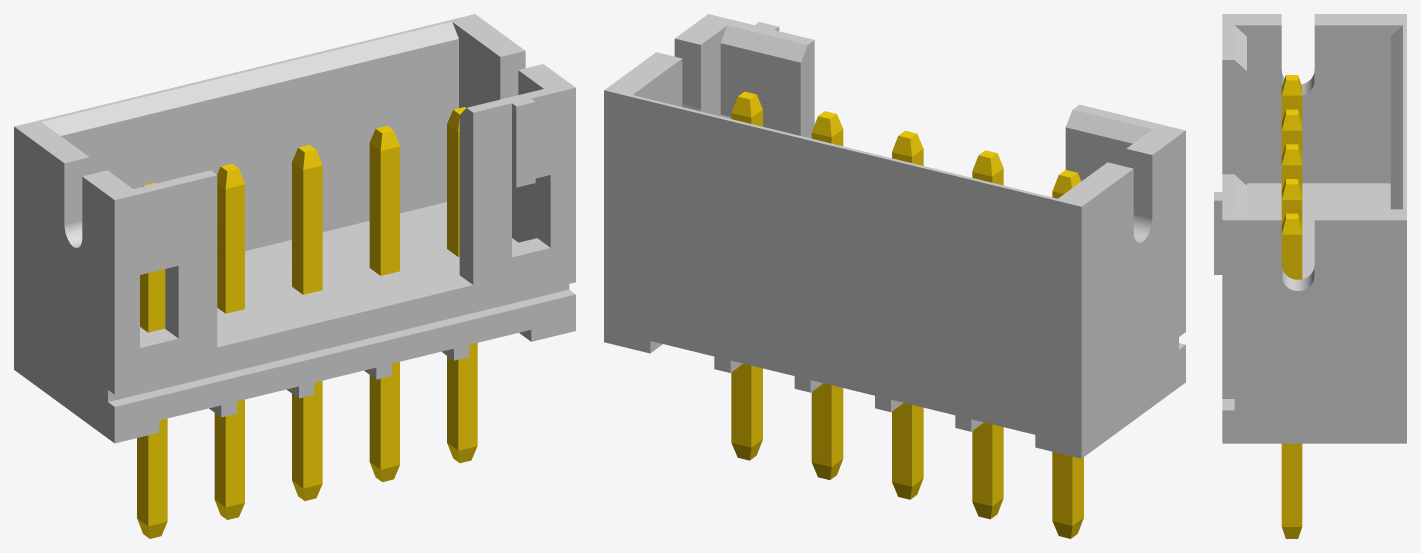
3 views of the same model, side by side, from view 1: azimuth 30°, elevation 25°; view 2: azimuth 150°, elevation 25°; view 3: azimuth 270°, elevation 25° (orthographic). The views are drawn at different scales.
Parts seen in each view (by area): view 1: BxB-PH-K-S; view 2: BxB-PH-K-S; view 3: BxB-PH-K-S.
Part boxes in pixels (<box>): BxB-PH-K-S: <box>14,14,575,538</box>; BxB-PH-K-S: <box>604,14,1185,538</box>; BxB-PH-K-S: <box>1214,14,1406,538</box>.
Bounding box in the file's own units: 0.0119 × 0.0094 × 0.0047.
